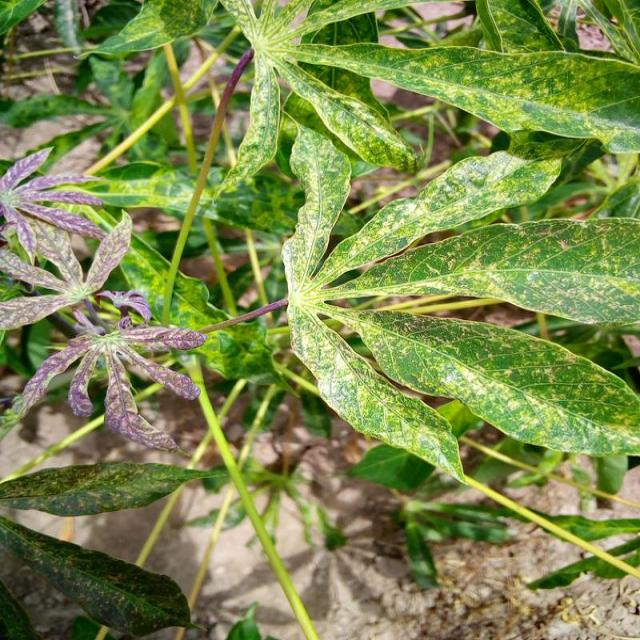cassava leaf: (280, 125, 638, 483)
